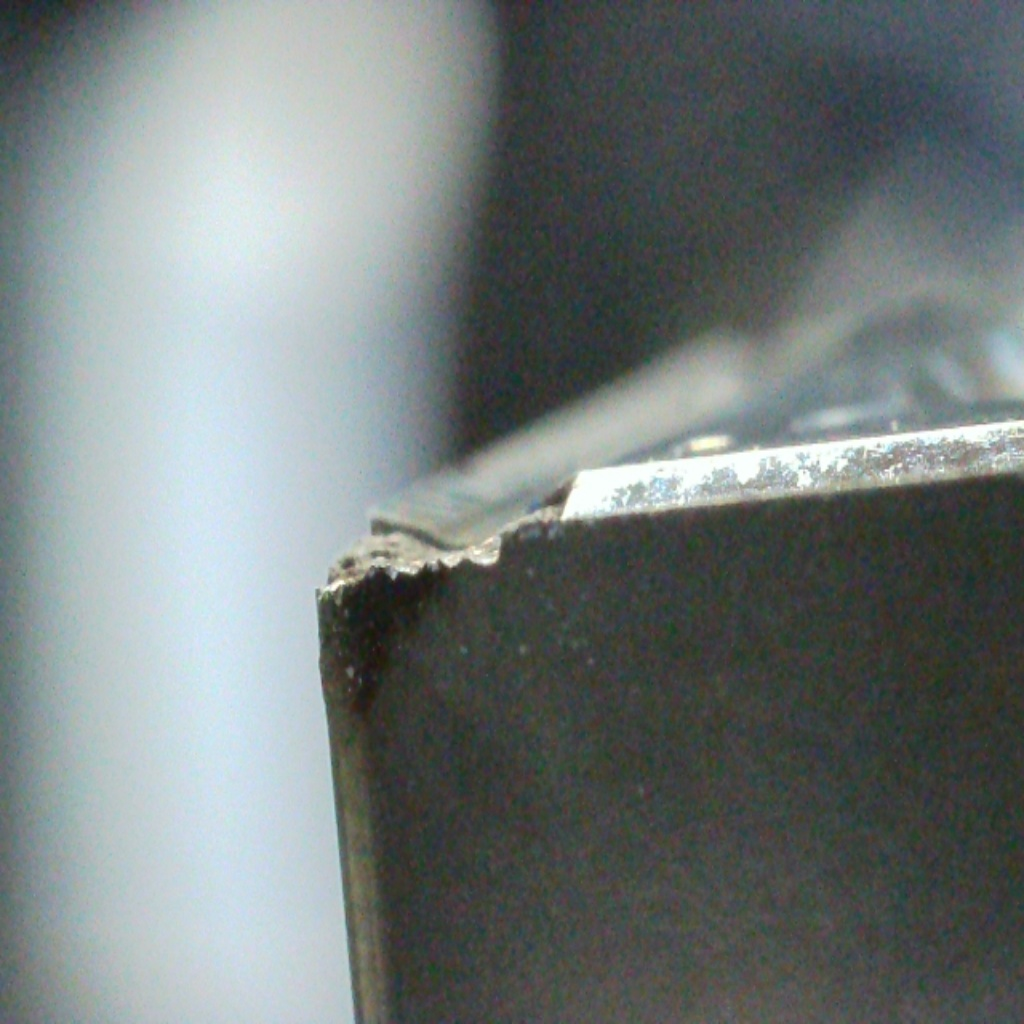flank_wear: (314, 551, 511, 607)
